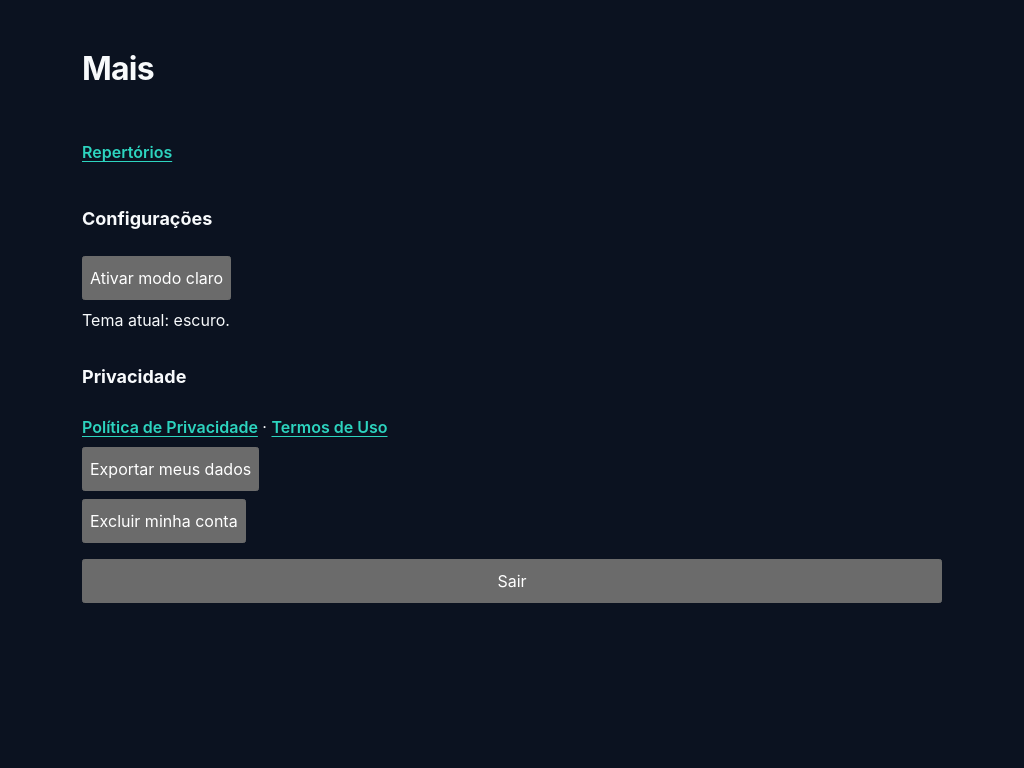
it: MorePage › downloads the export as a JSON file and shows errors
This screenshot has width=1024, height=768.
What coordinates should you click on to do the following:
click the button "Exportar meus dados"
I would click on:
 (171, 469)
Its box is [82,447,259,491].
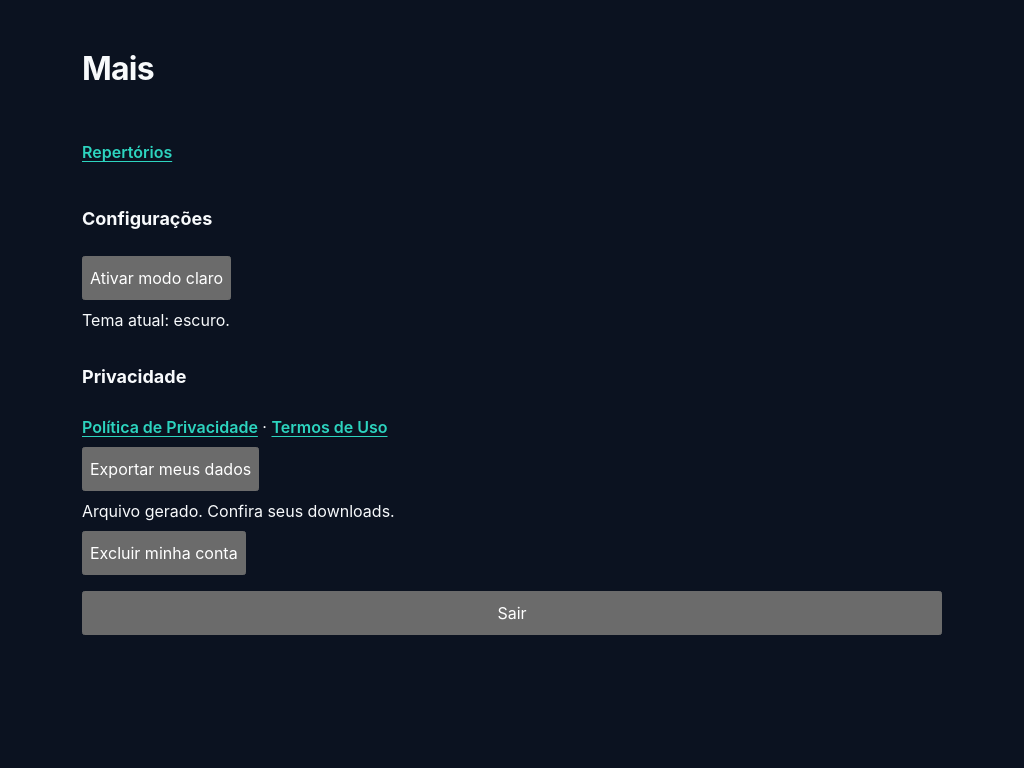
Now the message shows "Arquivo gerado", box [82,501,395,521]
What coordinates should you click on to do the following:
click the button "Exportar meus dados"
I would click on:
 (171, 469)
Its box is [82,447,259,491].
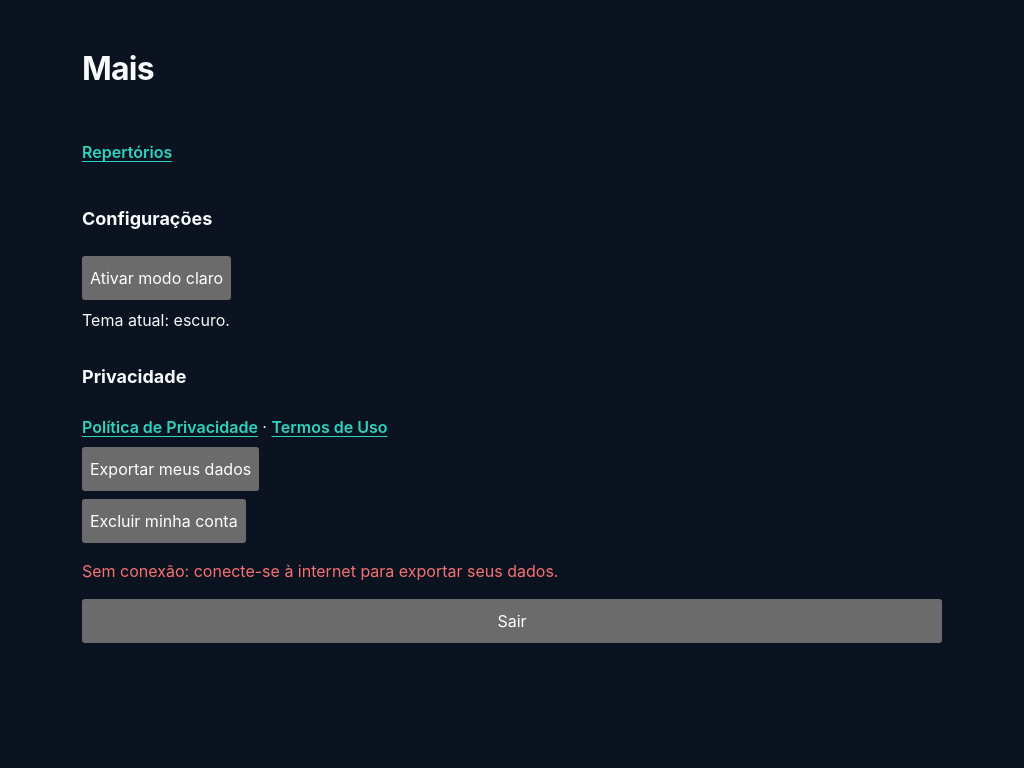
Now the message shows "Sem conexão", box [82,561,558,581]
